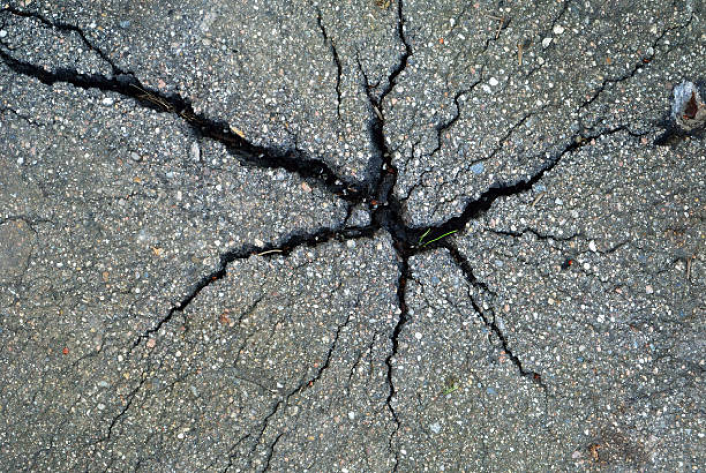Retak Buaya: (300, 142, 507, 288), (1, 3, 183, 124), (168, 91, 328, 182), (256, 306, 337, 473), (490, 213, 706, 275), (456, 284, 548, 405), (573, 99, 706, 154), (308, 2, 350, 128), (210, 227, 323, 271), (354, 53, 400, 155), (383, 280, 406, 473), (385, 1, 424, 84), (484, 156, 553, 202), (658, 69, 706, 130), (135, 306, 193, 355), (651, 18, 706, 55), (582, 71, 645, 99), (623, 40, 671, 75), (168, 270, 234, 292), (536, 138, 583, 166), (171, 290, 210, 307)
